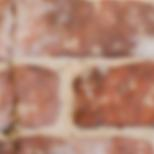brick: (73, 61, 153, 127)
broken_brick: (0, 0, 153, 62), (12, 62, 60, 128), (0, 134, 153, 153), (0, 67, 10, 129)
crack: (0, 2, 20, 151)
